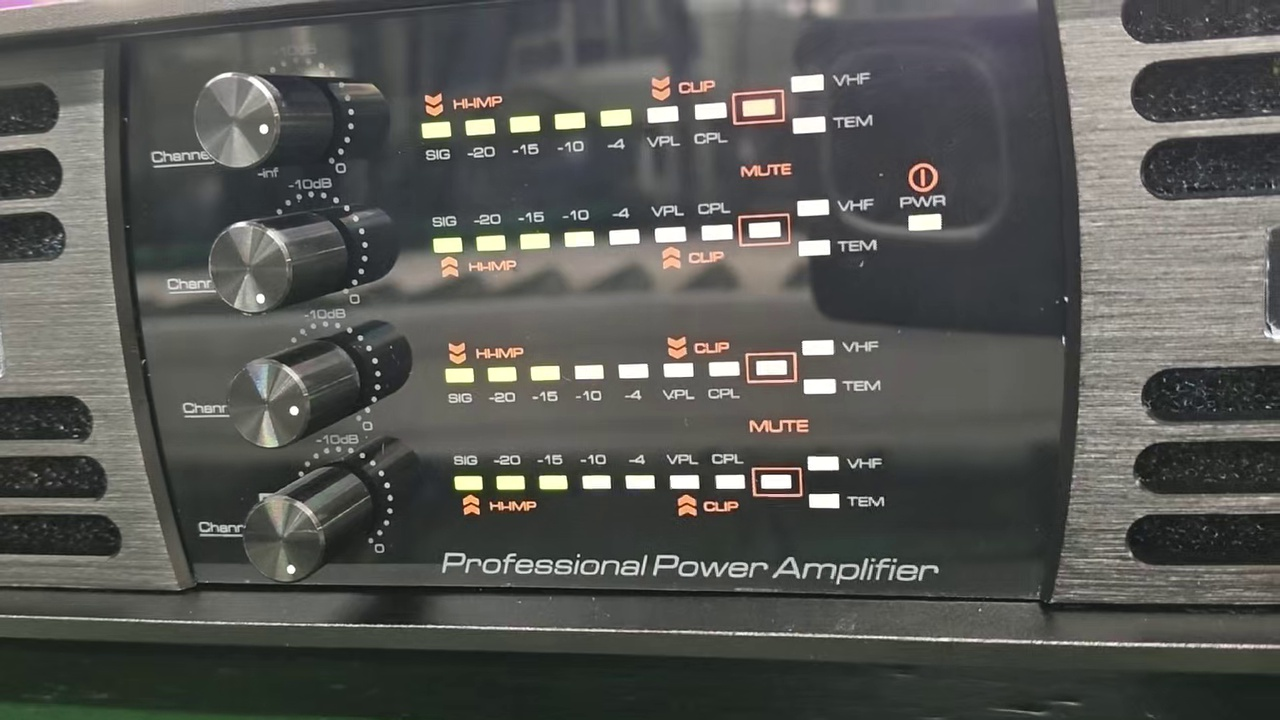FP_CPL: (690, 98, 730, 151), (696, 196, 735, 249), (704, 358, 745, 408), (710, 446, 746, 496)
FP_PWR: (893, 193, 952, 237)
FP_PWR_area: (887, 156, 956, 242)
FP_SIG_area: (415, 67, 876, 165), (428, 191, 877, 279), (436, 328, 886, 405), (451, 447, 890, 525)
FP_VPL: (643, 100, 683, 155), (649, 197, 688, 247), (660, 356, 696, 406), (666, 448, 702, 494)
